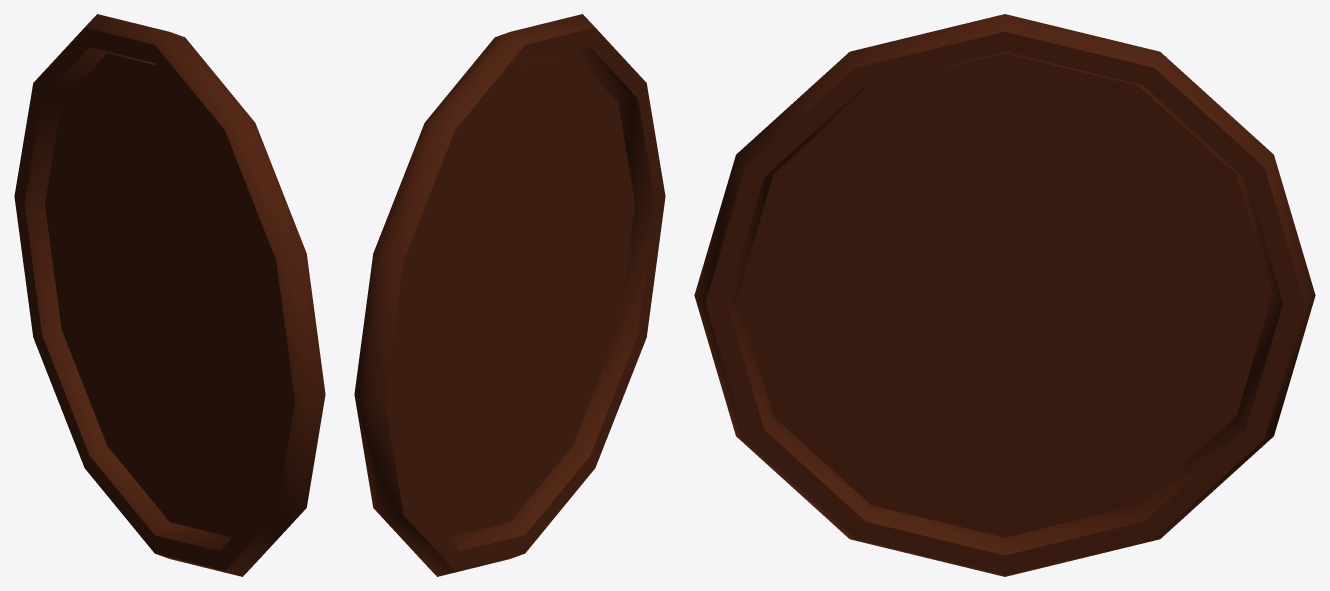
Rendered from bridge_3.fbx.
3 views of the same model, side by side, from view 1: azimuth 30°, elevation 25°; view 2: azimuth 150°, elevation 25°; view 3: azimuth 270°, elevation 25° (orthographic). The views are drawn at different scales.
Visible parts, largest first — view 1: b3; view 2: b3; view 3: b3.
Part boxes in pixels (<box>): b3: <box>14,14,325,576</box>; b3: <box>354,14,665,576</box>; b3: <box>694,14,1315,576</box>.
Bounding box in the file's own units: 0.5196 × 8.6 × 8.6.
